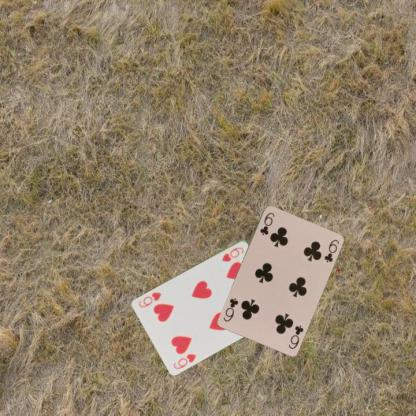6c: (257, 210, 276, 236), (286, 323, 304, 350)
6h: (171, 351, 197, 370), (220, 244, 245, 263)
